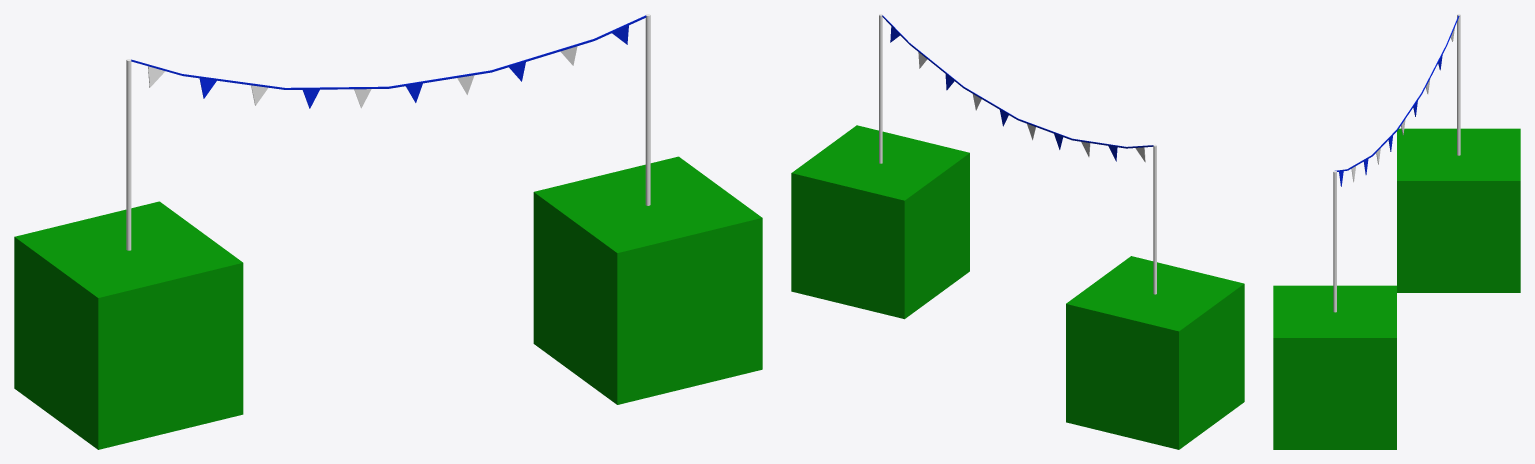
File: FlagRight.obj
The picture shows the model from 3 angles, left to right: view 1: azimuth 30°, elevation 25°; view 2: azimuth 150°, elevation 25°; view 3: azimuth 270°, elevation 25°; orthographic projection. The views are drawn at different scales.
Visible parts, largest first — view 1: Cube_Cube_Material.001, Cube_Cube_Material.002, Cube_Cube_Material.005, Cube_Cube_Material.006; view 2: Cube_Cube_Material.001, Cube_Cube_Material.002, Cube_Cube_Material.005; view 3: Cube_Cube_Material.001, Cube_Cube_Material.002, Cube_Cube_Material.005.
Part boxes in pixels (x1,y1,x2,y2): Cube_Cube_Material.001: (14,156,762,449); Cube_Cube_Material.002: (126,14,650,250); Cube_Cube_Material.005: (131,15,646,89); Cube_Cube_Material.006: (199,25,628,108); Cube_Cube_Material.001: (791,125,1244,449); Cube_Cube_Material.002: (879,14,1156,294); Cube_Cube_Material.005: (882,15,1153,148); Cube_Cube_Material.001: (1273,128,1520,449); Cube_Cube_Material.002: (1333,14,1460,312); Cube_Cube_Material.005: (1335,15,1459,171).
Size of the model in its own units: 8 by 4.5 by 4.
